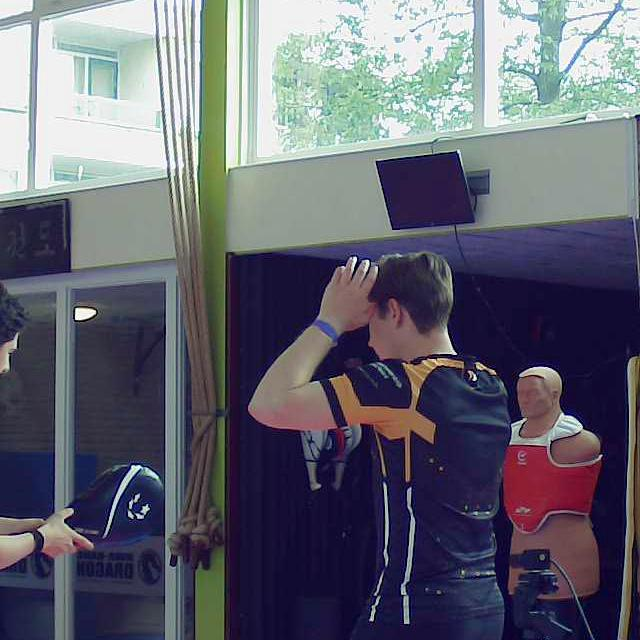paddle: (55, 462, 170, 540)
